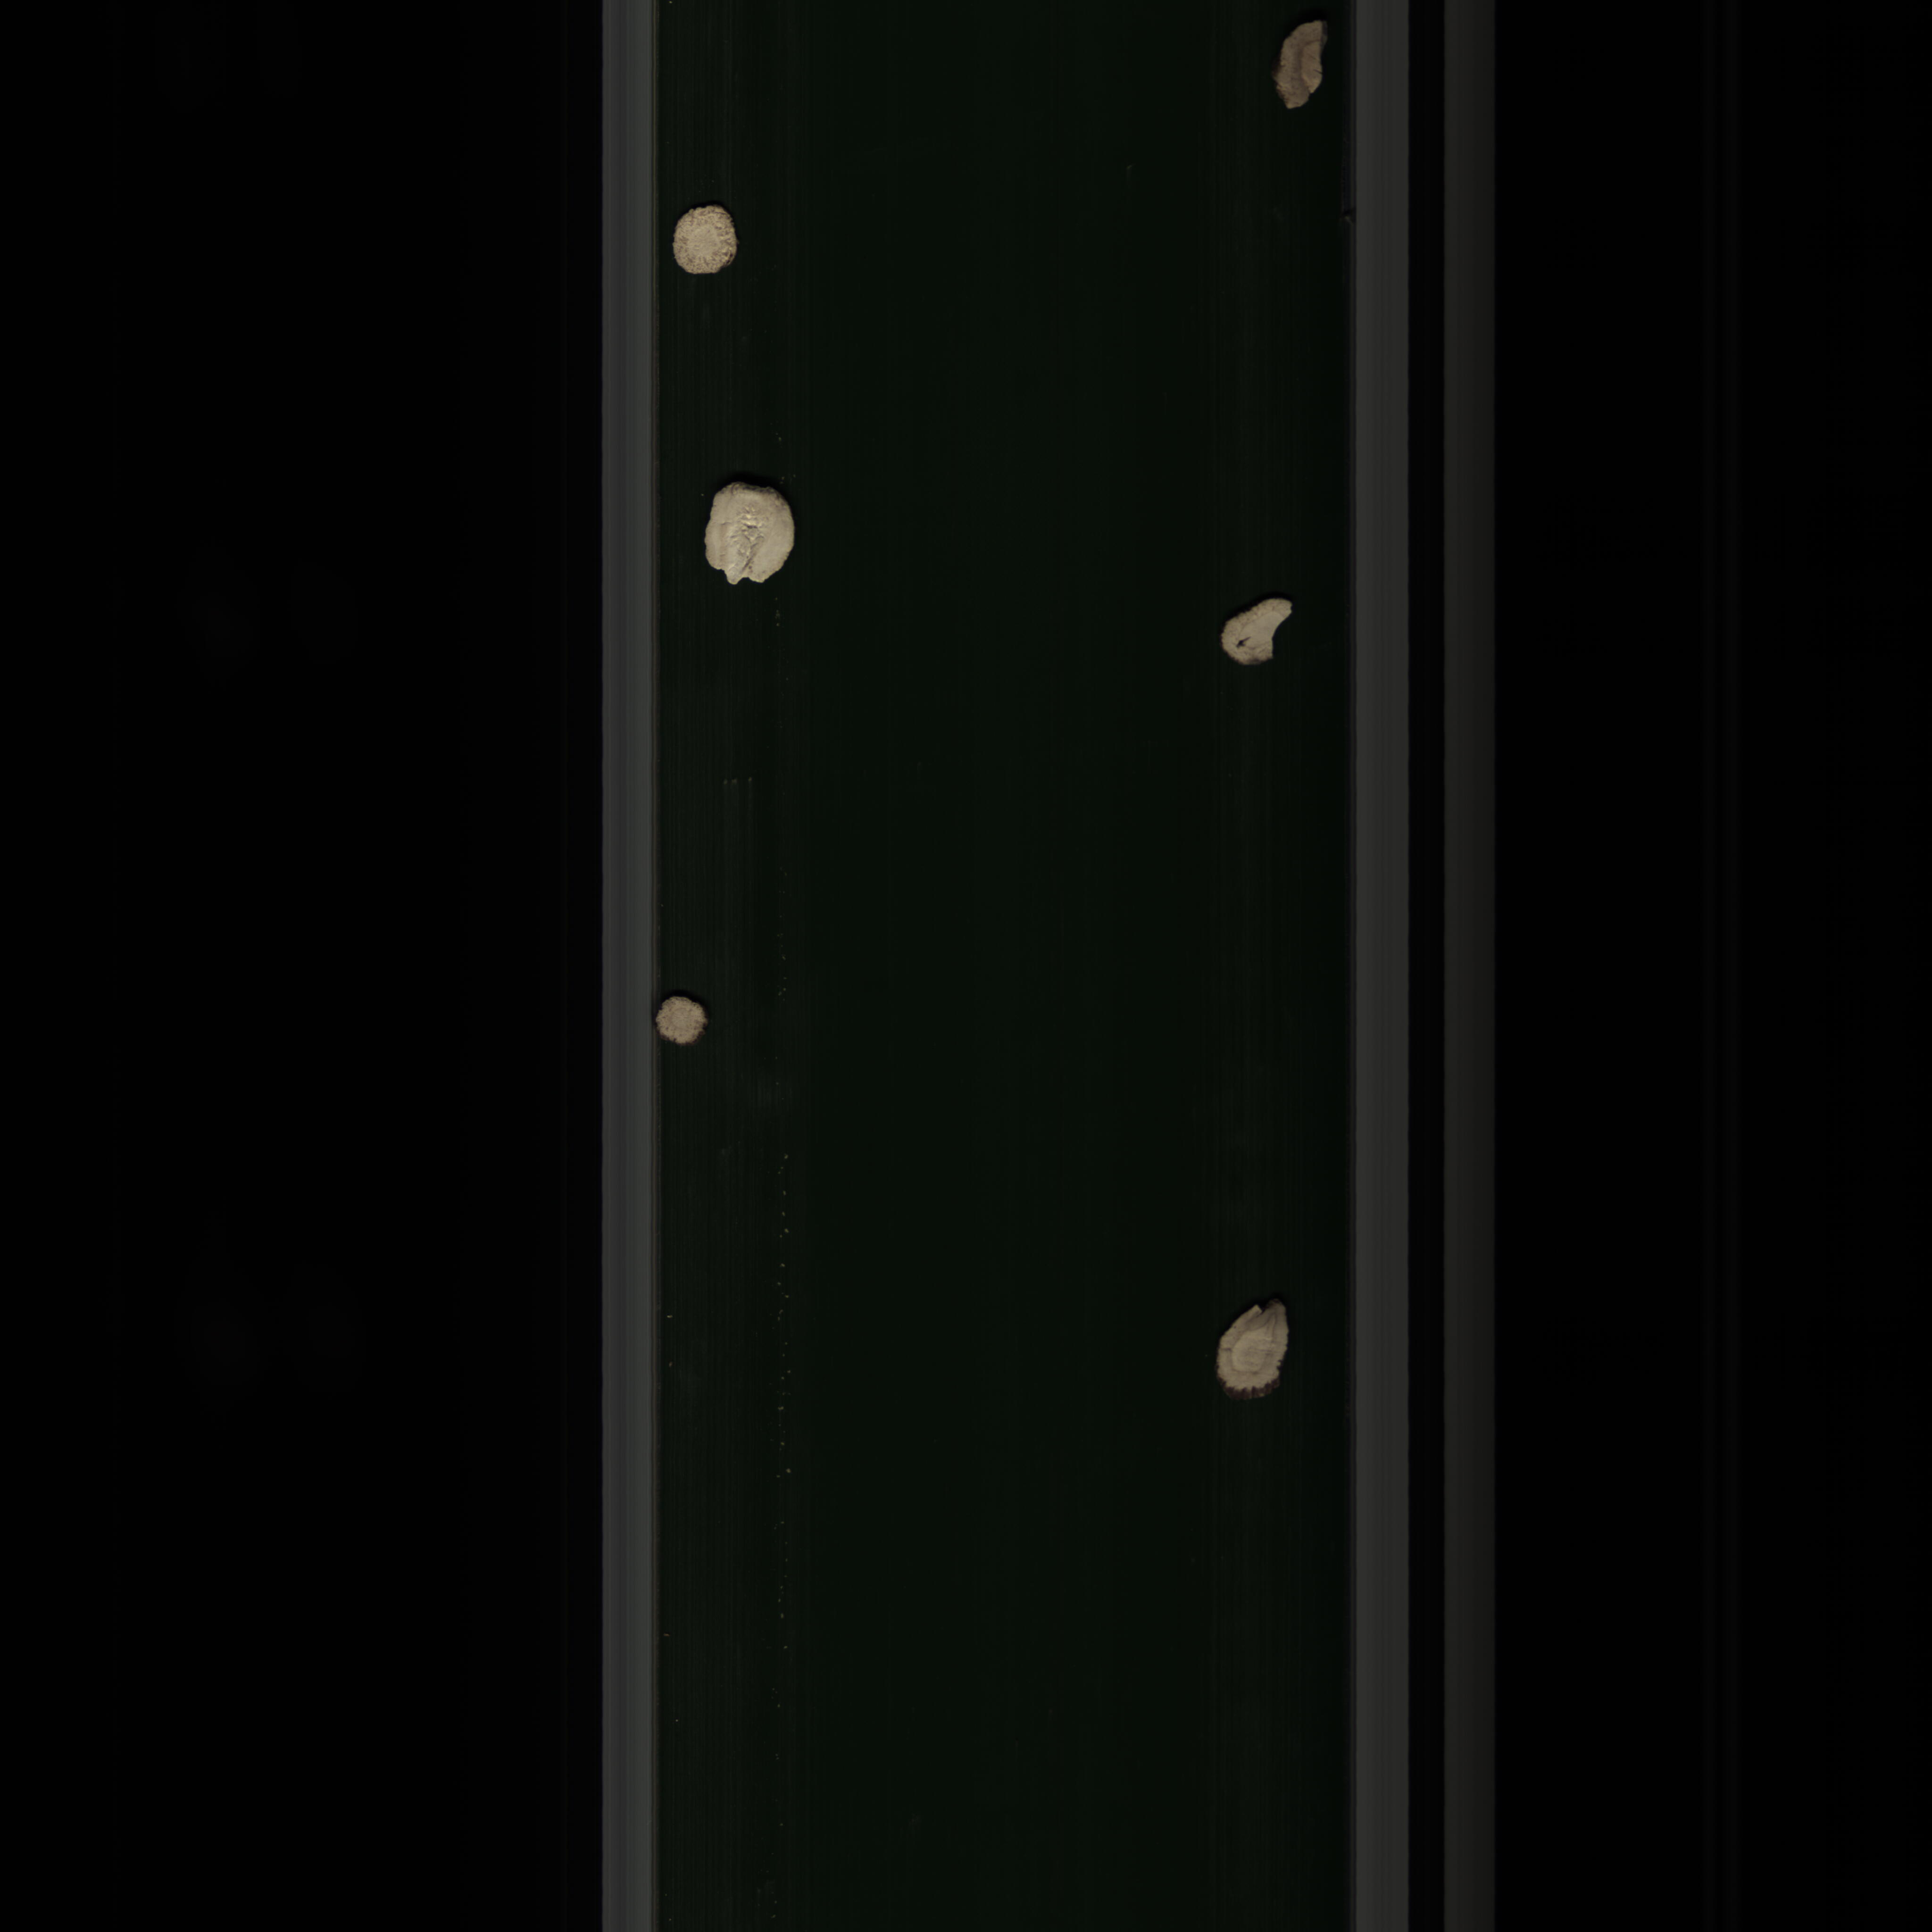debris: (697, 469, 800, 605), (1205, 1300, 1302, 1408), (1212, 589, 1300, 672)
moldy: (1274, 14, 1327, 122)
